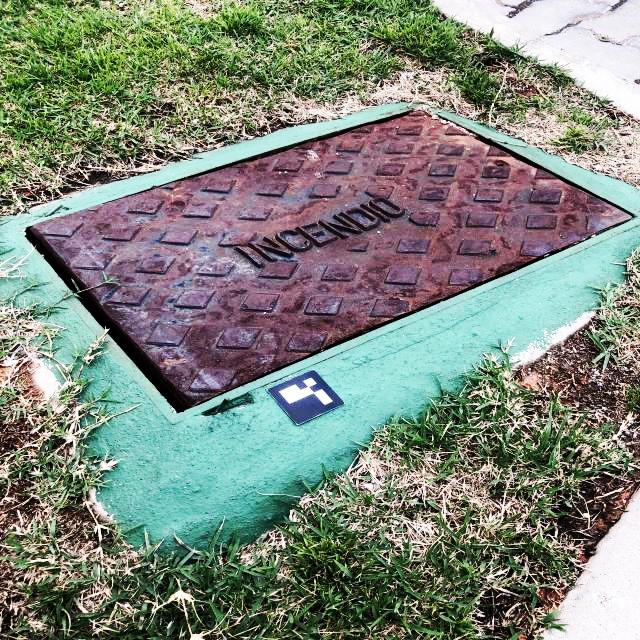Corrosion: (29, 111, 634, 409)
